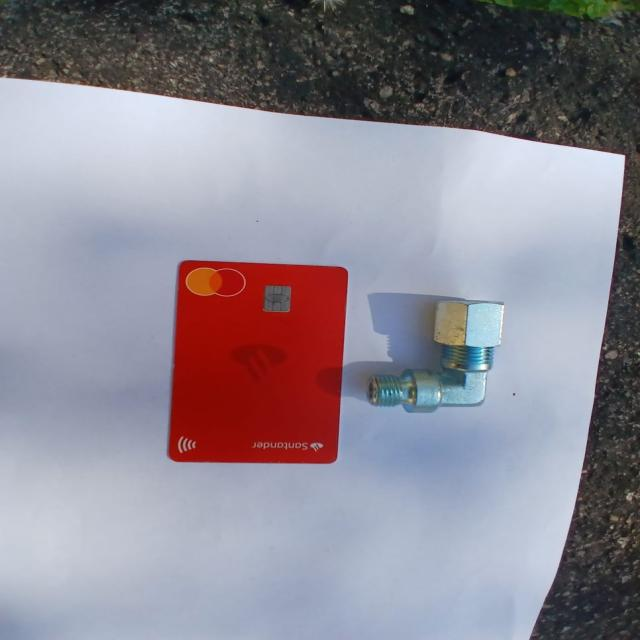cartao: (170, 259, 349, 463)
rosca_externa: (368, 300, 504, 413)
